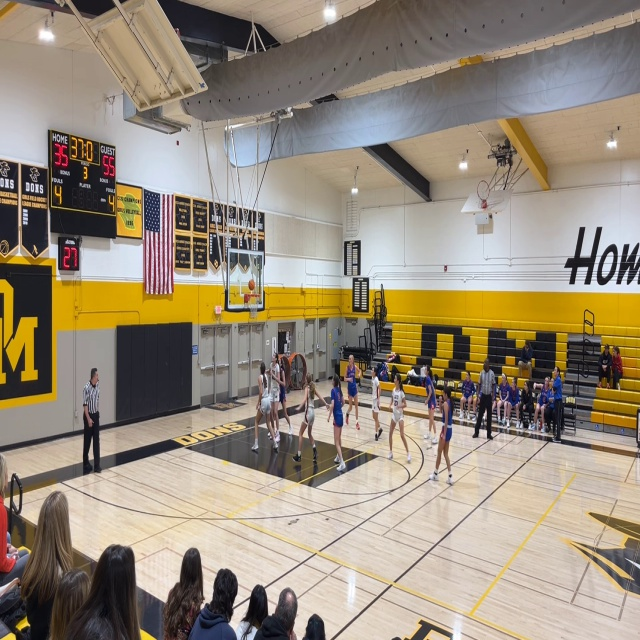Basketball: (248, 280, 256, 290)
